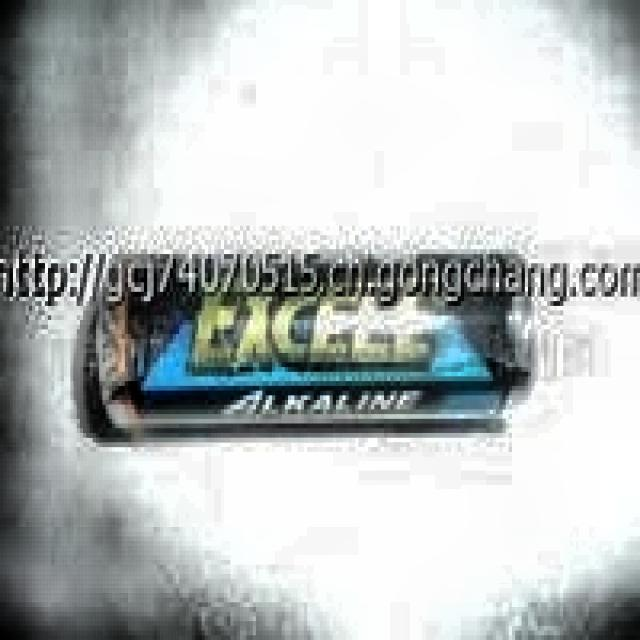Non-Valuable Waste - Batteries: (85, 254, 531, 438)
